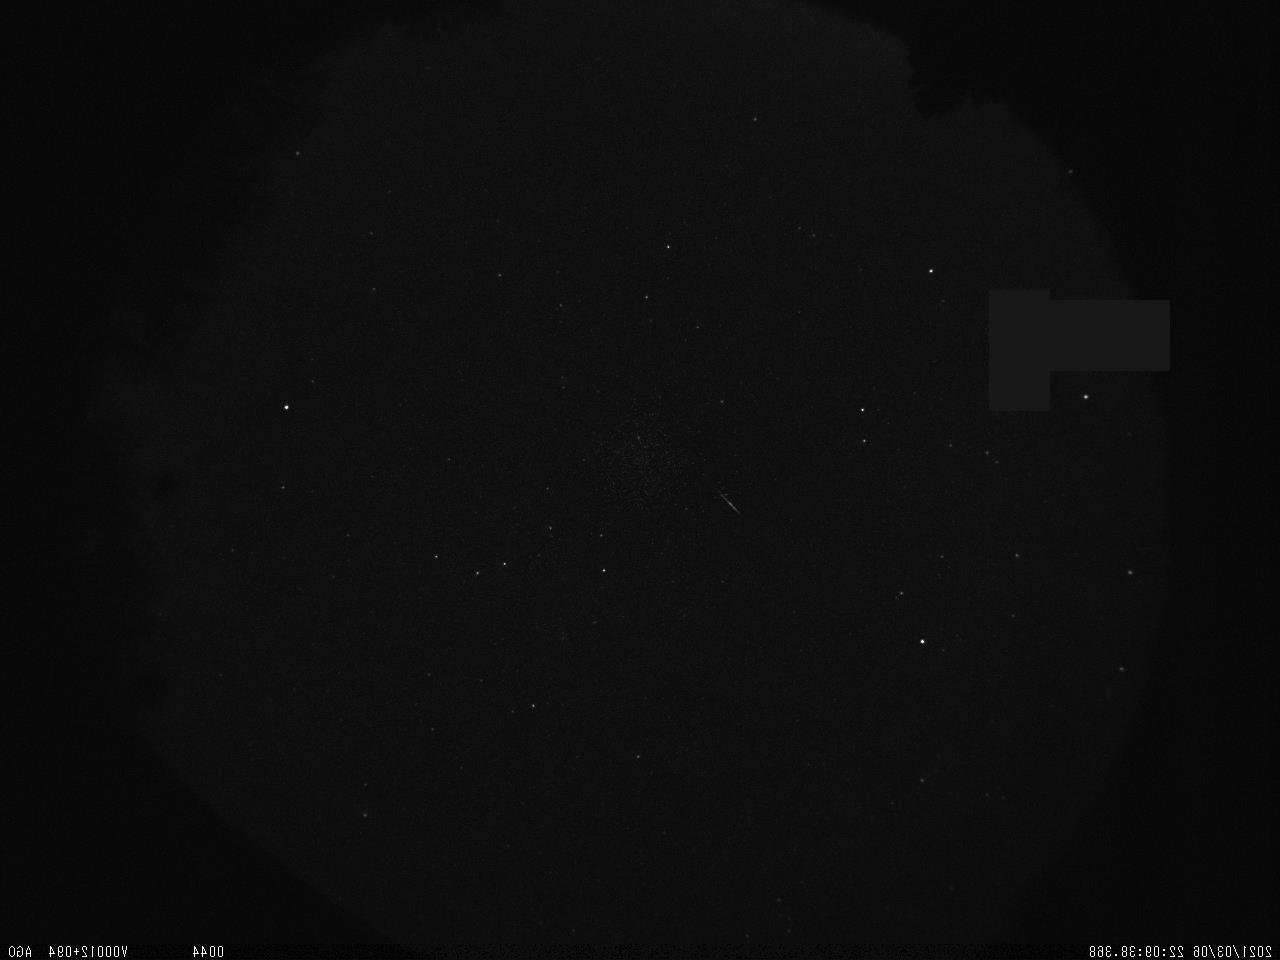meteor: (703, 478, 756, 528)
